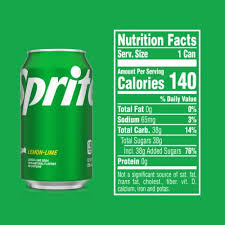can: (20, 47, 95, 189)
